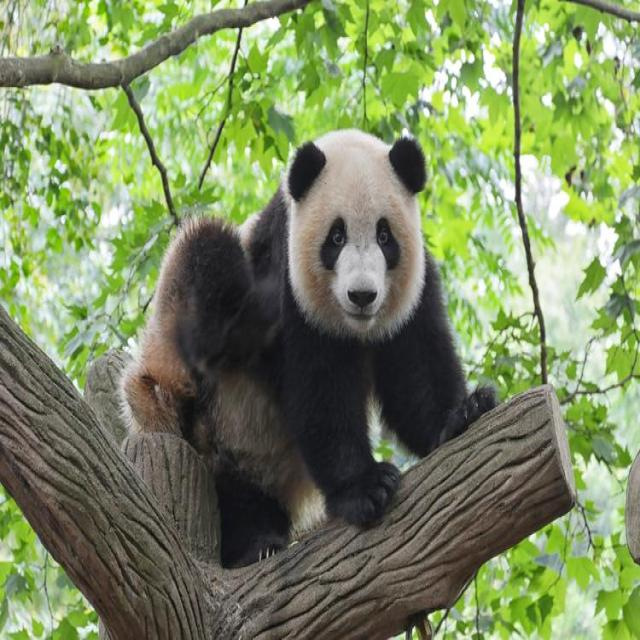panda: (109, 120, 581, 559)
